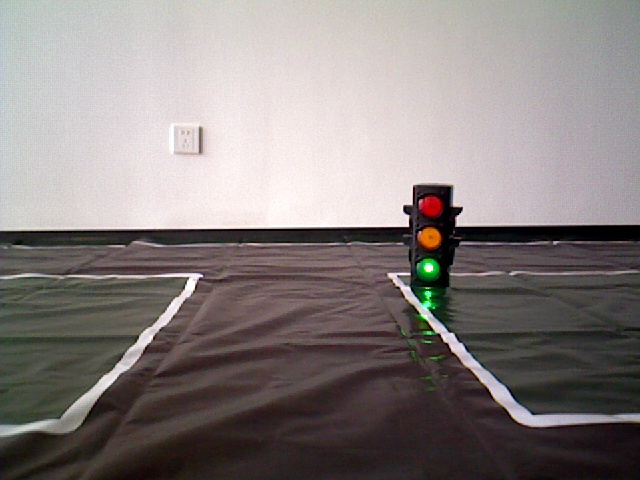green: (412, 189, 444, 280)
